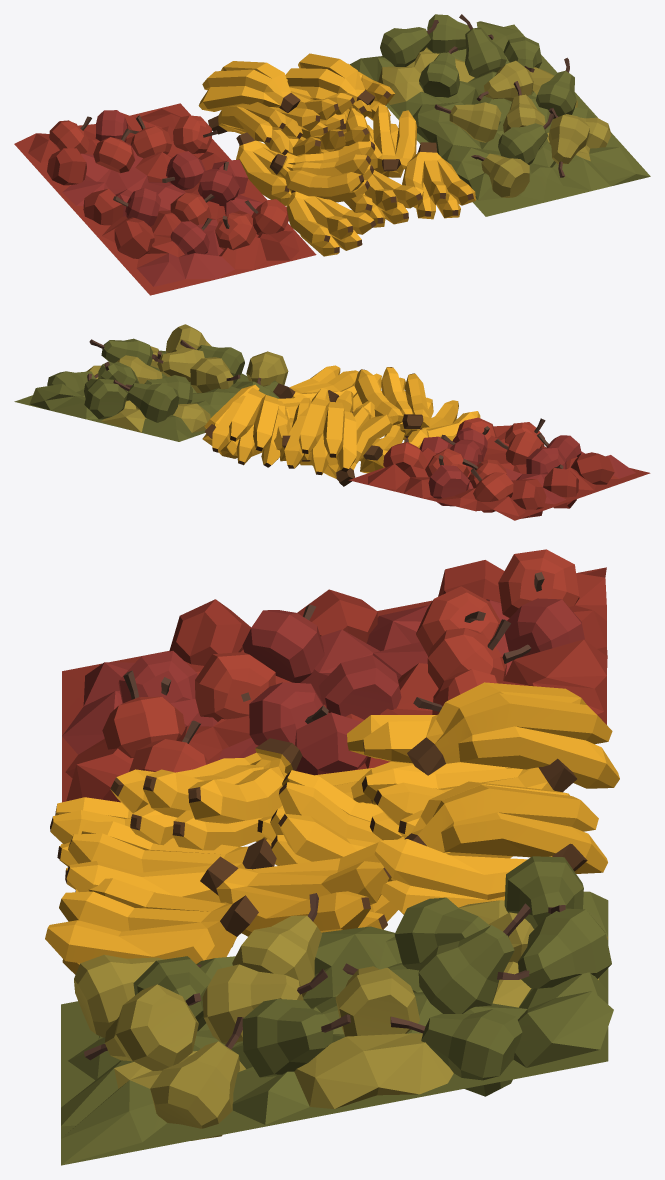
The model's file is SM_Prop_Market_Produce_Stand_01_Insert_01.obj.
3 renders of one model, top to bottom at view 1: azimuth 30°, elevation 25°; view 2: azimuth 150°, elevation 25°; view 3: azimuth 270°, elevation 25°, orthographic. The views are drawn at different scales.
Visible parts, largest first — view 1: SM_Prop_Market_Produce_Stand_01_Insert_01_0; view 2: SM_Prop_Market_Produce_Stand_01_Insert_01_0; view 3: SM_Prop_Market_Produce_Stand_01_Insert_01_0.
Boxes of the visible parts, x1,y1,x2,y2 form: SM_Prop_Market_Produce_Stand_01_Insert_01_0: [14, 14, 650, 295]; SM_Prop_Market_Produce_Stand_01_Insert_01_0: [14, 324, 650, 520]; SM_Prop_Market_Produce_Stand_01_Insert_01_0: [45, 549, 619, 1165].
Bounding box in the file's own units: 2.28 × 0.4581 × 1.13.
1 material, 1 textured.
